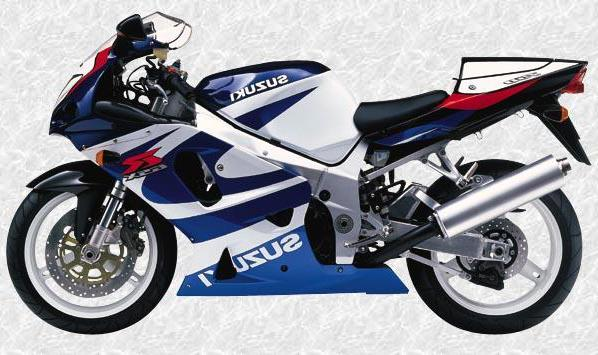motorcycle: (2, 1, 598, 355)
